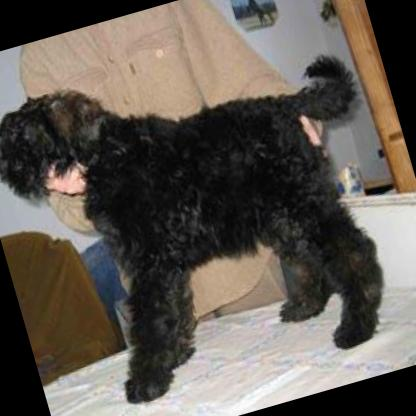Bouvier_des_Flandres: (0, 9, 416, 416)
